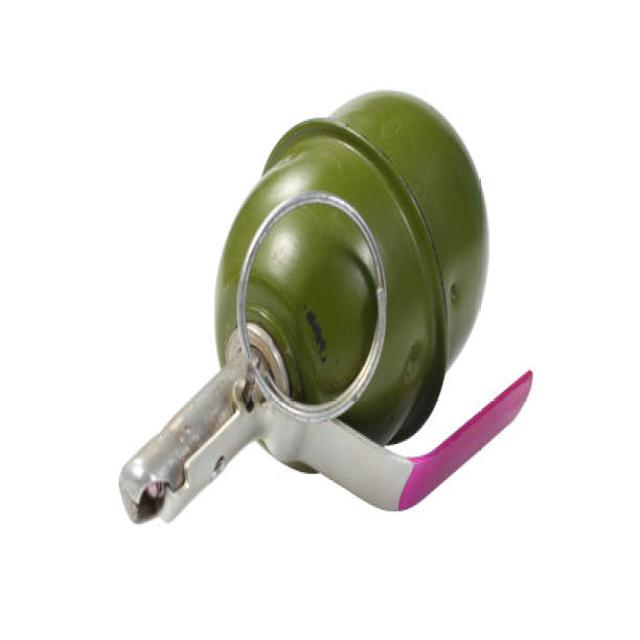grenade: (114, 47, 551, 551)
